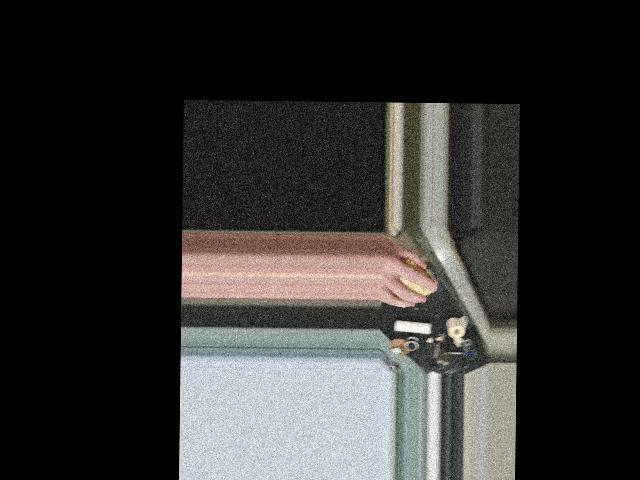onion: (391, 256, 436, 299)
